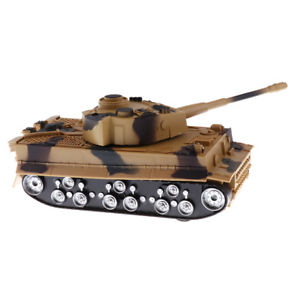Battle Tank: (9, 82, 288, 222)
